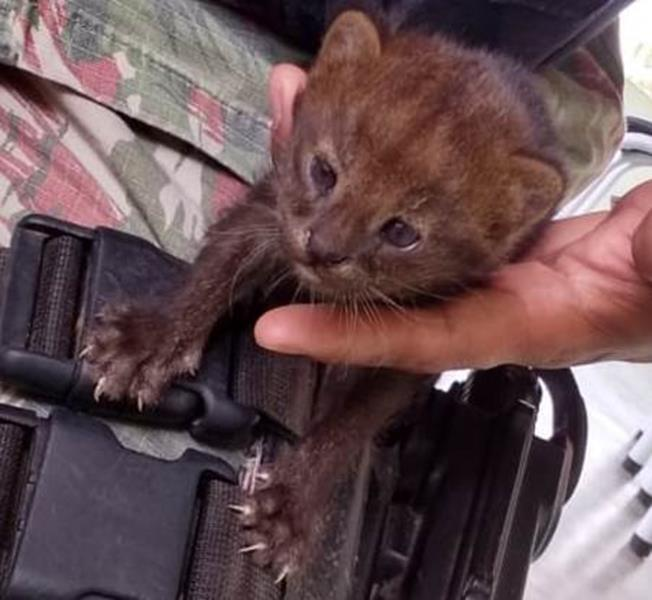Jaguarundi: (99, 11, 579, 531)
